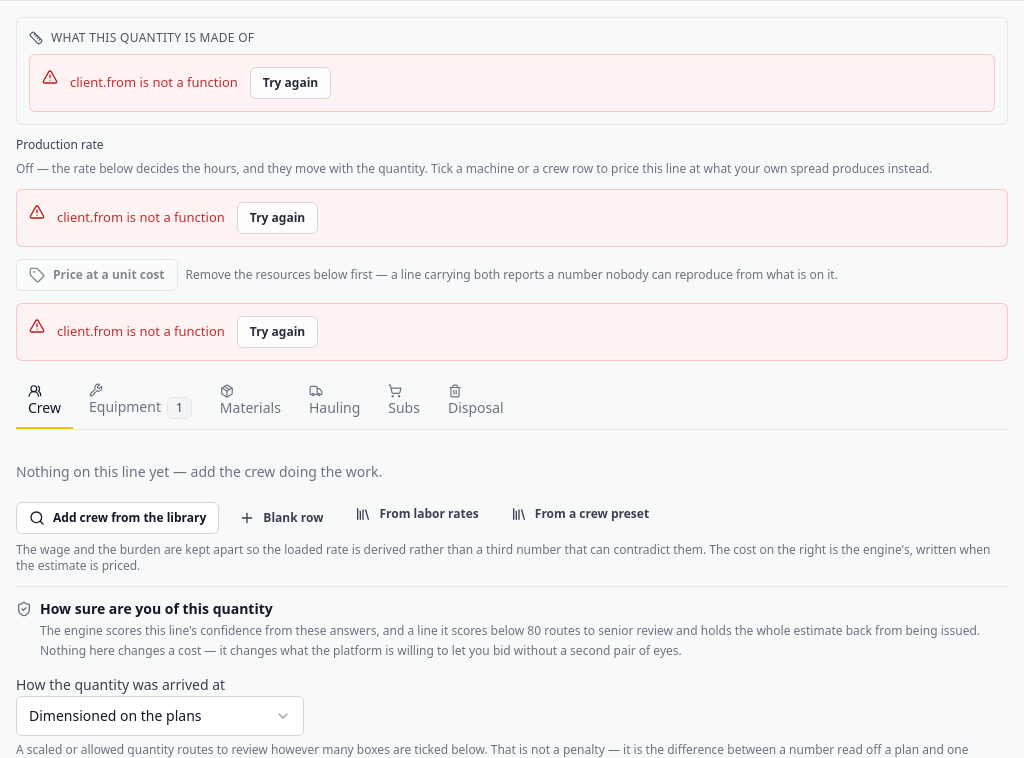
Test: the build-up behind a line › says a cost is unpriced rather than showing a free machine
Step 1. Click the tab "Equipment 1" → x=140, y=401, box [77,373,204,429]
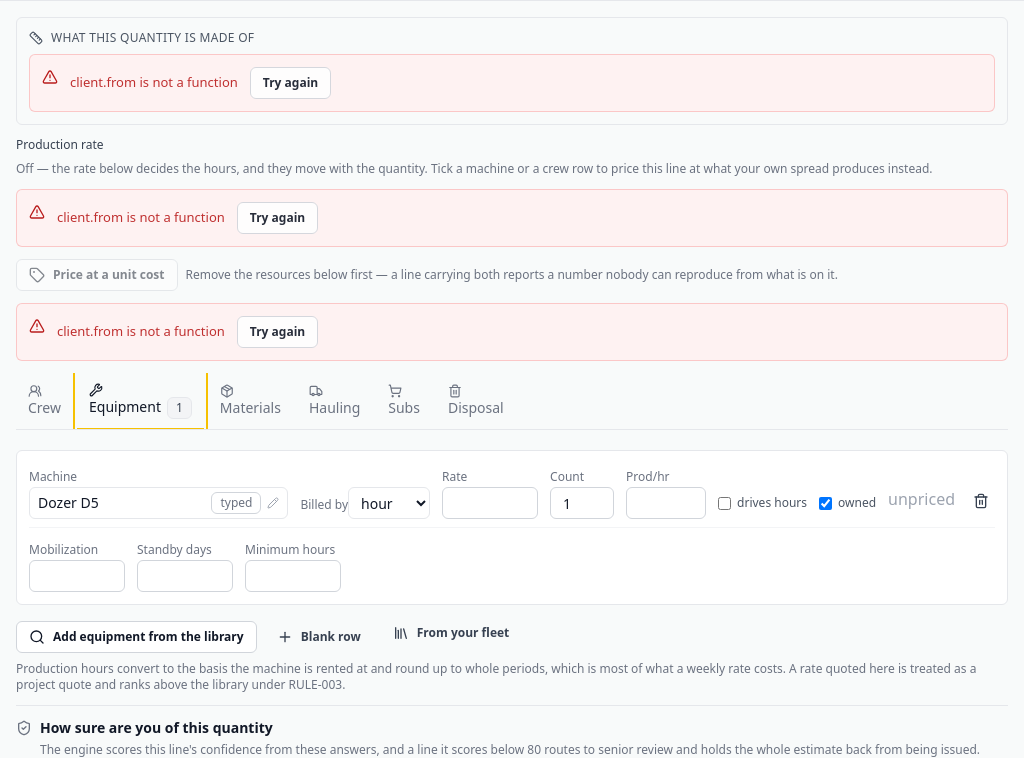
Check: the text "unpriced" is shown, box [888,488,955,510]
